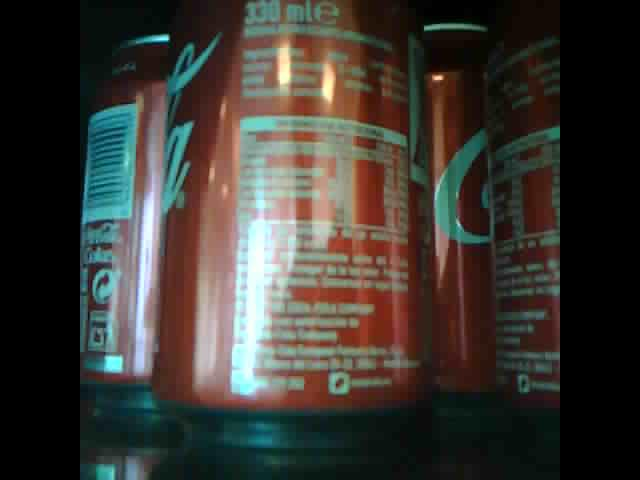coca cola: (152, 2, 429, 433), (78, 24, 169, 391), (418, 16, 496, 405), (495, 9, 559, 415)
